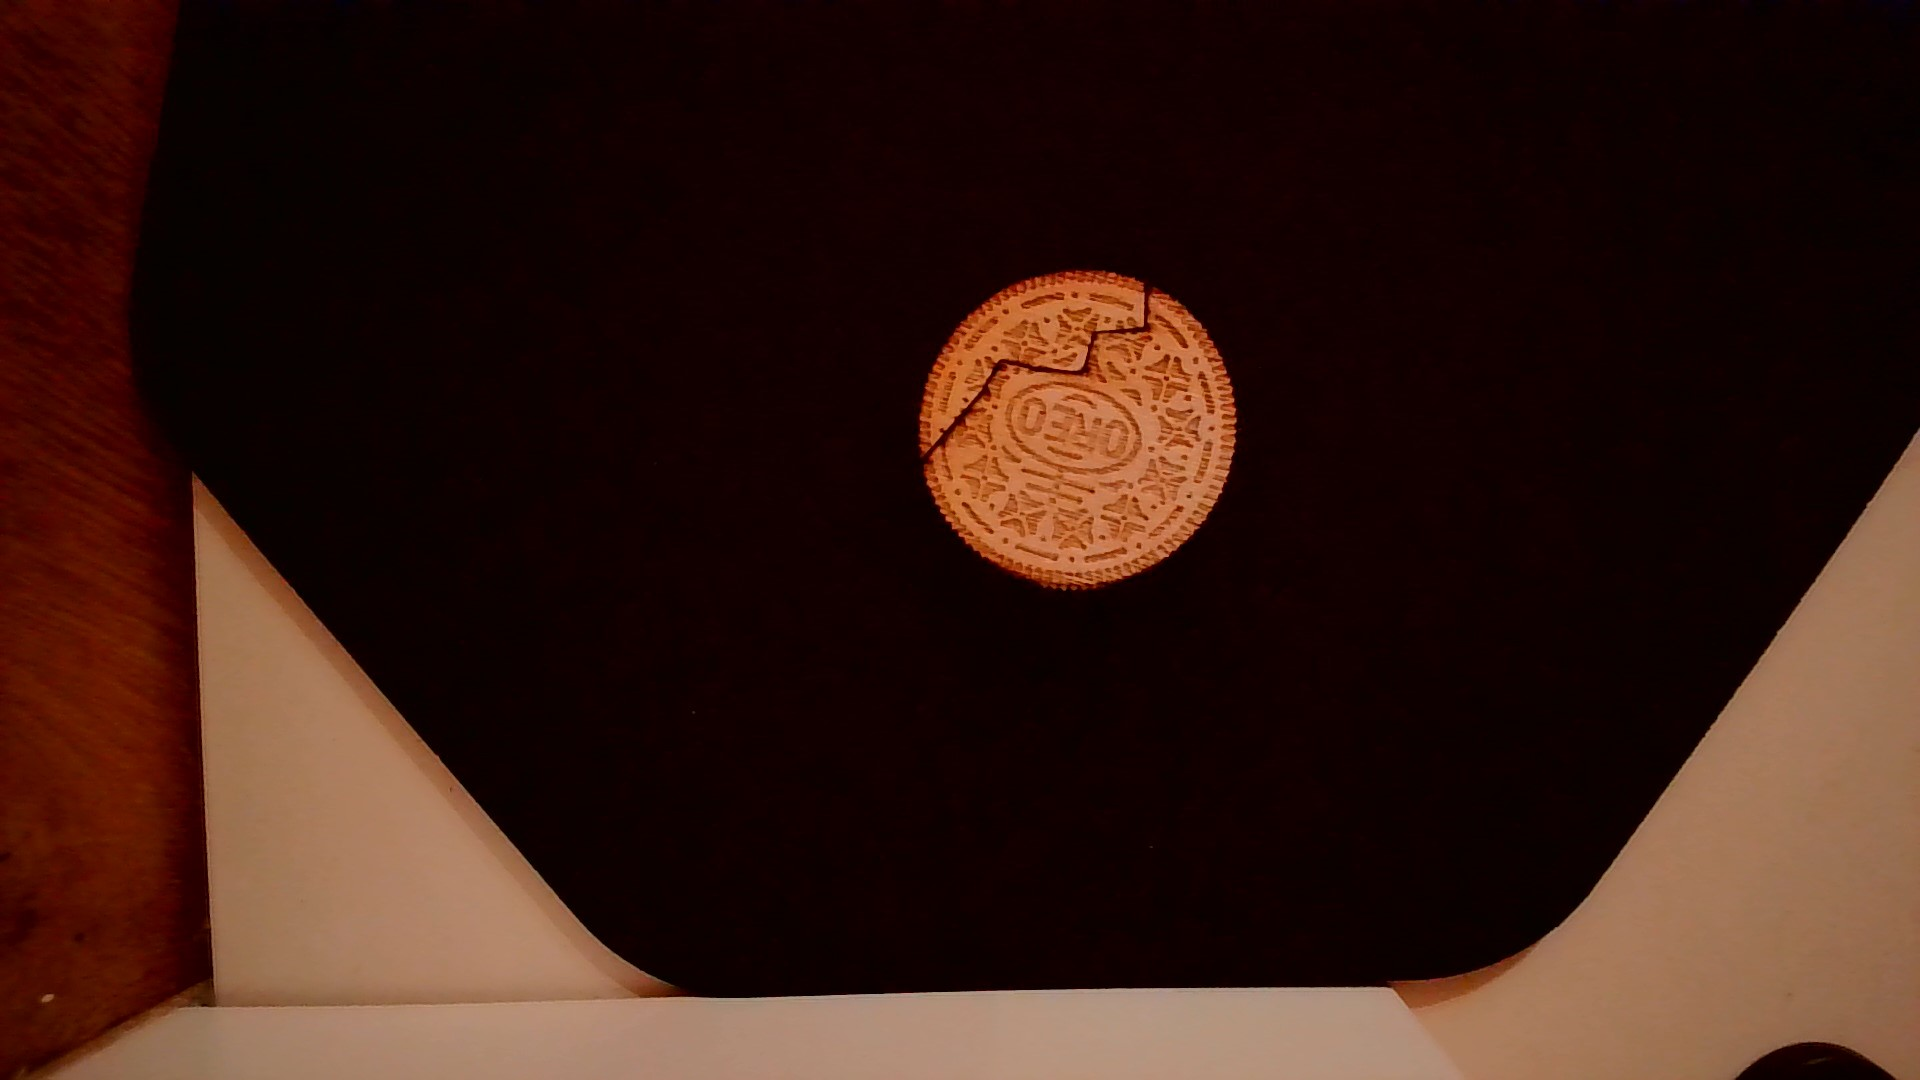Fissure: (905, 262, 1160, 487)
Oréo: (911, 268, 1245, 595)
